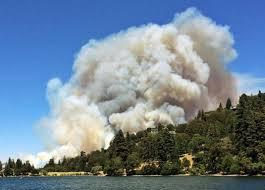yanwu: (30, 3, 237, 168)
